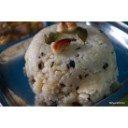venpongal: (25, 25, 118, 97)
